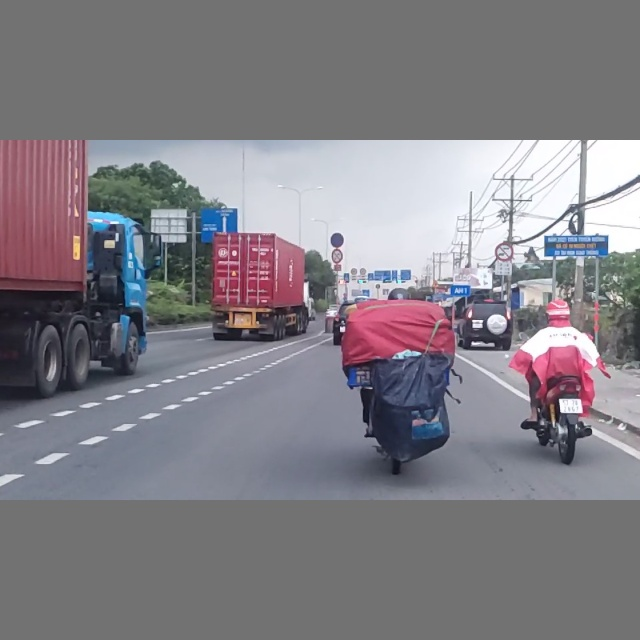P.107: (495, 243, 513, 262)
P.111: (332, 249, 343, 263)
P.130: (329, 232, 345, 247)
